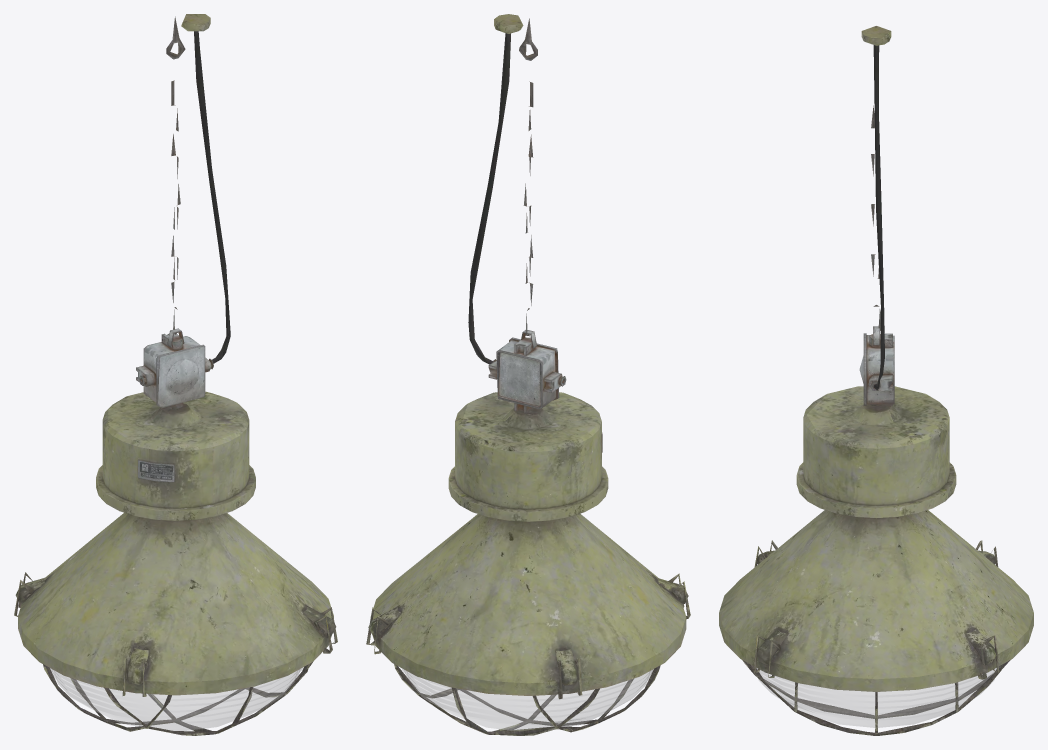
File: hanging_industrial_lamp.glb
The picture shows the model from 3 angles, left to right: view 1: azimuth 30°, elevation 25°; view 2: azimuth 150°, elevation 25°; view 3: azimuth 270°, elevation 25°; orthographic projection.
Visible parts, largest first — view 1: hanging_industrial_lamp; view 2: hanging_industrial_lamp; view 3: hanging_industrial_lamp.
Part boxes in pixels (left/top/right/bottom): hanging_industrial_lamp: left=14, top=14, right=337, bottom=735; hanging_industrial_lamp: left=366, top=14, right=690, bottom=735; hanging_industrial_lamp: left=719, top=26, right=1033, bottom=735.
Bounding box in the file's own units: 0.5497 × 1.36 × 0.5497.
2 materials, 1 textured.
